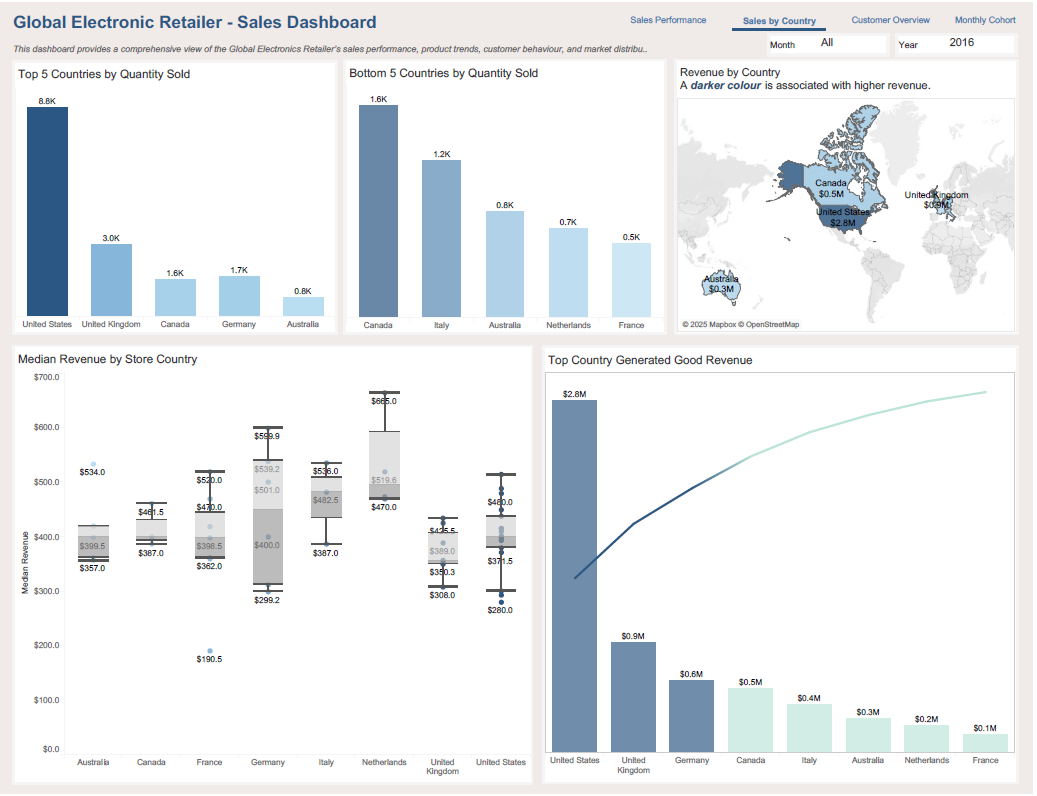

The page's visual inventory and layout, read from the dashboard file:
{"tool":"tableau","page":{"name":"Sales by Country","canvas":[1500,1150],"ordinal":3},"visuals":[{"type":"text","box":[17,18,756,47]},{"type":"parameter","param":"[Parameters].[YEAR Parameter]","box":[1286,20,195,52]},{"type":"worksheet","title":"Bottom Sales Country","mark":"Automatic","rows":["ProductKey"],"cols":["Store_Country"],"box":[499,82,469,400]},{"type":"worksheet","title":"Revenue by Store Country","mark":"Automatic","box":[980,82,500,401]},{"type":"worksheet","title":"Top Sales Country","mark":"Automatic","rows":["ProductKey"],"cols":["Store_Country"],"box":[17,84,473,398]},{"type":"worksheet","title":"Median Revenue by Store Country","mark":"Circle","rows":["Revenue"],"cols":["Store_Country"],"box":[17,498,757,639]},{"type":"worksheet","title":"Top Country Generated Good Revenue","mark":"Line","rows":["Revenue","Calculation_1338976494388994067"],"cols":["Store_Country"],"box":[788,499,692,637]}]}

Visuals, with their boxes in screenshot pixels (x1, y1, x2, y2), scaled from the page's 1500x1150 canvas onto the 1037x796 screenshot:
text: <bbox>12, 12, 534, 45</bbox>
parameter: <bbox>889, 14, 1024, 50</bbox>
"Bottom Sales Country" worksheet: <bbox>345, 57, 669, 334</bbox>
"Revenue by Store Country" worksheet: <bbox>678, 57, 1023, 334</bbox>
"Top Sales Country" worksheet: <bbox>12, 58, 339, 334</bbox>
"Median Revenue by Store Country" worksheet (Circle marks): <bbox>12, 345, 535, 787</bbox>
"Top Country Generated Good Revenue" worksheet (Line marks): <bbox>545, 345, 1023, 786</bbox>
